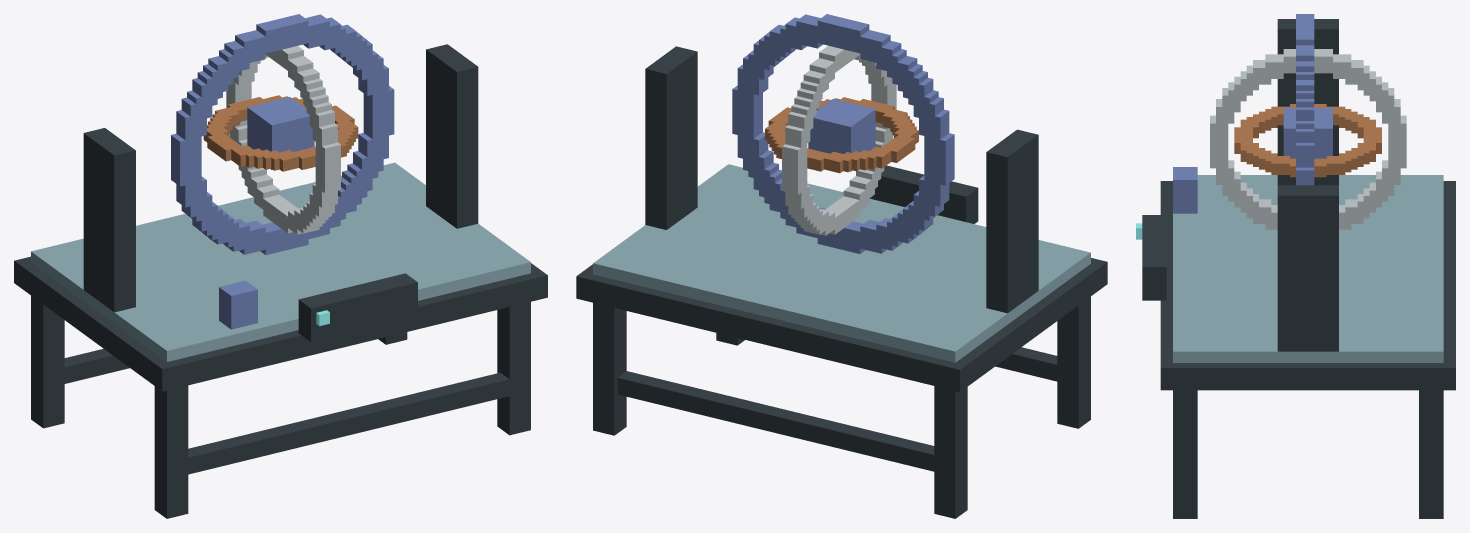
File: physics_station_t6.glb
3 views of the same model, side by side, from view 1: azimuth 30°, elevation 25°; view 2: azimuth 150°, elevation 25°; view 3: azimuth 270°, elevation 25° (orthographic).
Visible parts, largest first — view 1: physics_station_t6/work_surface, physics_station_t6/frame, physics_station_t6/field_cage; view 2: physics_station_t6/work_surface, physics_station_t6/frame, physics_station_t6/field_cage; view 3: physics_station_t6/work_surface, physics_station_t6/field_cage, physics_station_t6/frame.
Part boxes in pixels (x1,y1,x2,y2): physics_station_t6/work_surface: (31,44,530,361); physics_station_t6/frame: (14,256,547,518); physics_station_t6/field_cage: (171,14,394,254); physics_station_t6/work_surface: (593,46,1090,362); physics_station_t6/frame: (576,258,1107,518); physics_station_t6/field_cage: (732,14,954,253); physics_station_t6/work_surface: (1136,19,1443,362); physics_station_t6/field_cage: (1210,14,1406,229); physics_station_t6/frame: (1160,181,1455,518).
Bounding box in the file's own units: 2.25 × 2.25 × 1.62.
